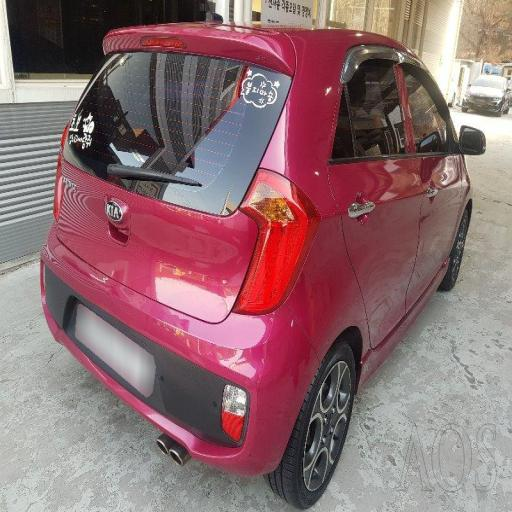dent: (136, 200, 252, 336)
scratch: (42, 217, 136, 320), (194, 308, 270, 392)
